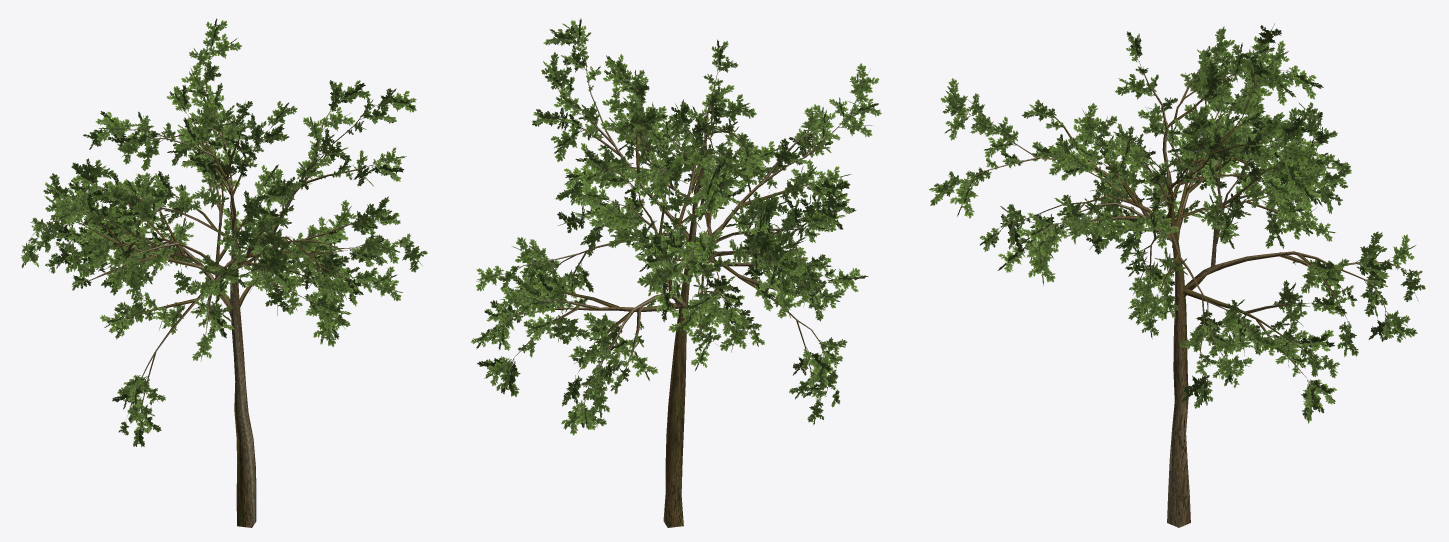
File: oak-small.glb
3 views of the same model, side by side, from view 1: azimuth 30°, elevation 25°; view 2: azimuth 150°, elevation 25°; view 3: azimuth 270°, elevation 25° (orthographic). The views are drawn at different scales.
Parts seen in each view (by area): view 1: Tree; view 2: Tree; view 3: Tree.
Boxes of the visible parts, box(x1,y1,x2,y2) form: Tree: box(21, 18, 427, 527); Tree: box(471, 18, 881, 527); Tree: box(929, 23, 1425, 527).
Bounding box in the file's own units: 37.36 × 47.19 × 43.22.
Materials: 2 (2 with a texture image).
